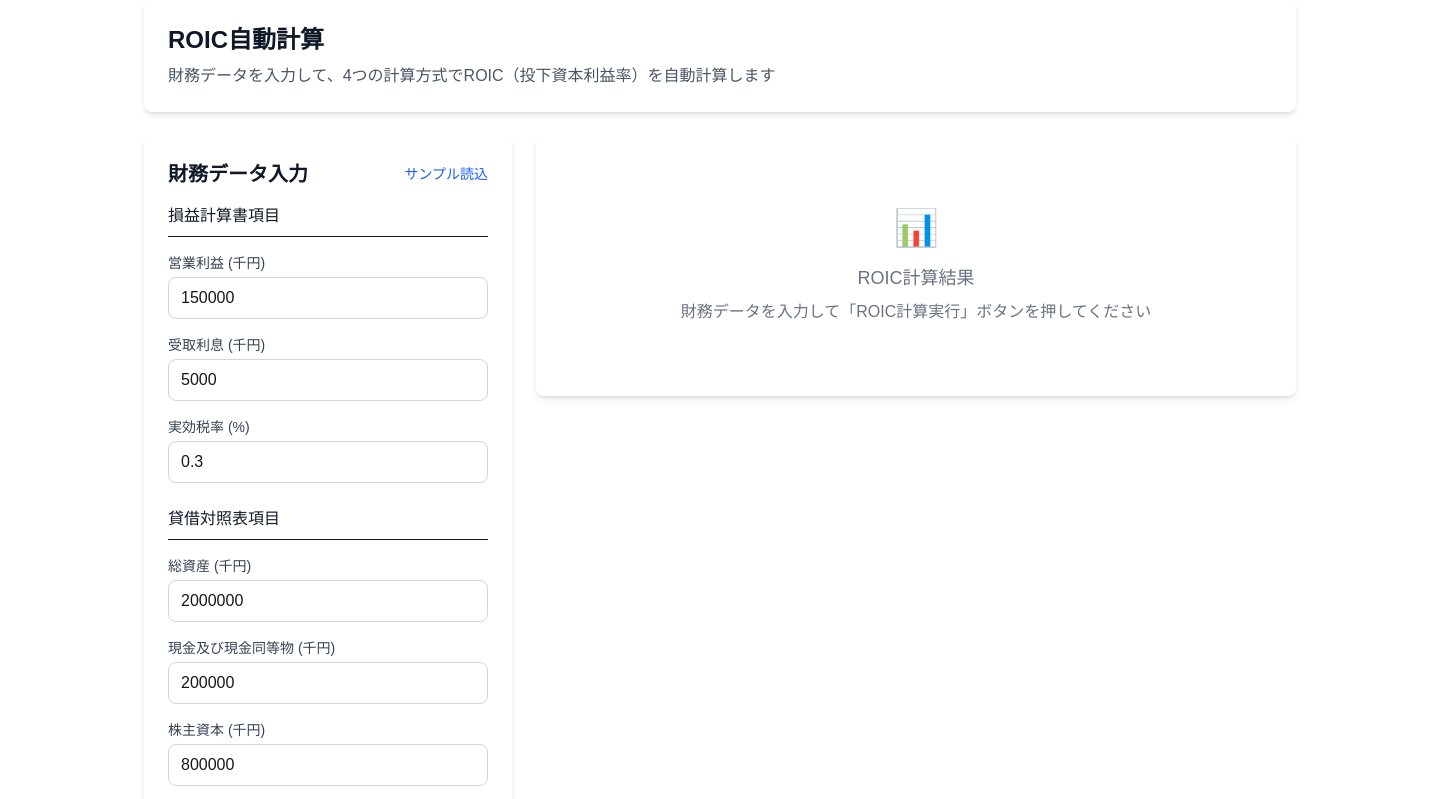
Test: ROICCalculator コンポーネント › ROIC計算機能 › 計算実行ボタンで結果が表示される
This screenshot has width=1440, height=799.
Note: サンプルデータを読み込み
What coordinates should you click on to do the following:
click the button "サンプル読込"
I would click on:
 (446, 174)
Its box is [404, 164, 488, 184].
(page scrolled)
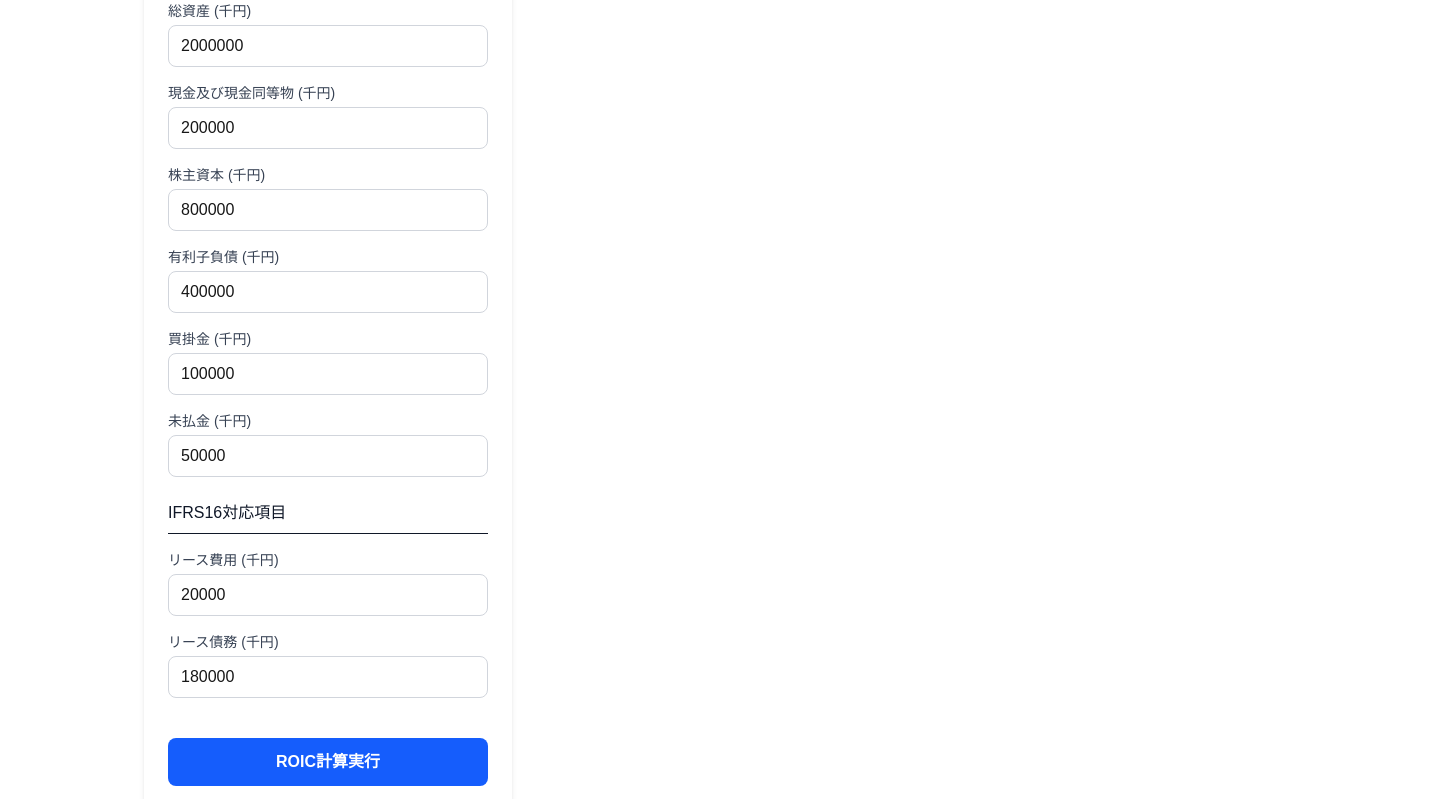
What coordinates should you click on to do the following:
click the button "ROIC計算実行"
I would click on:
 (328, 762)
Its box is [168, 738, 488, 786].
(page scrolled)
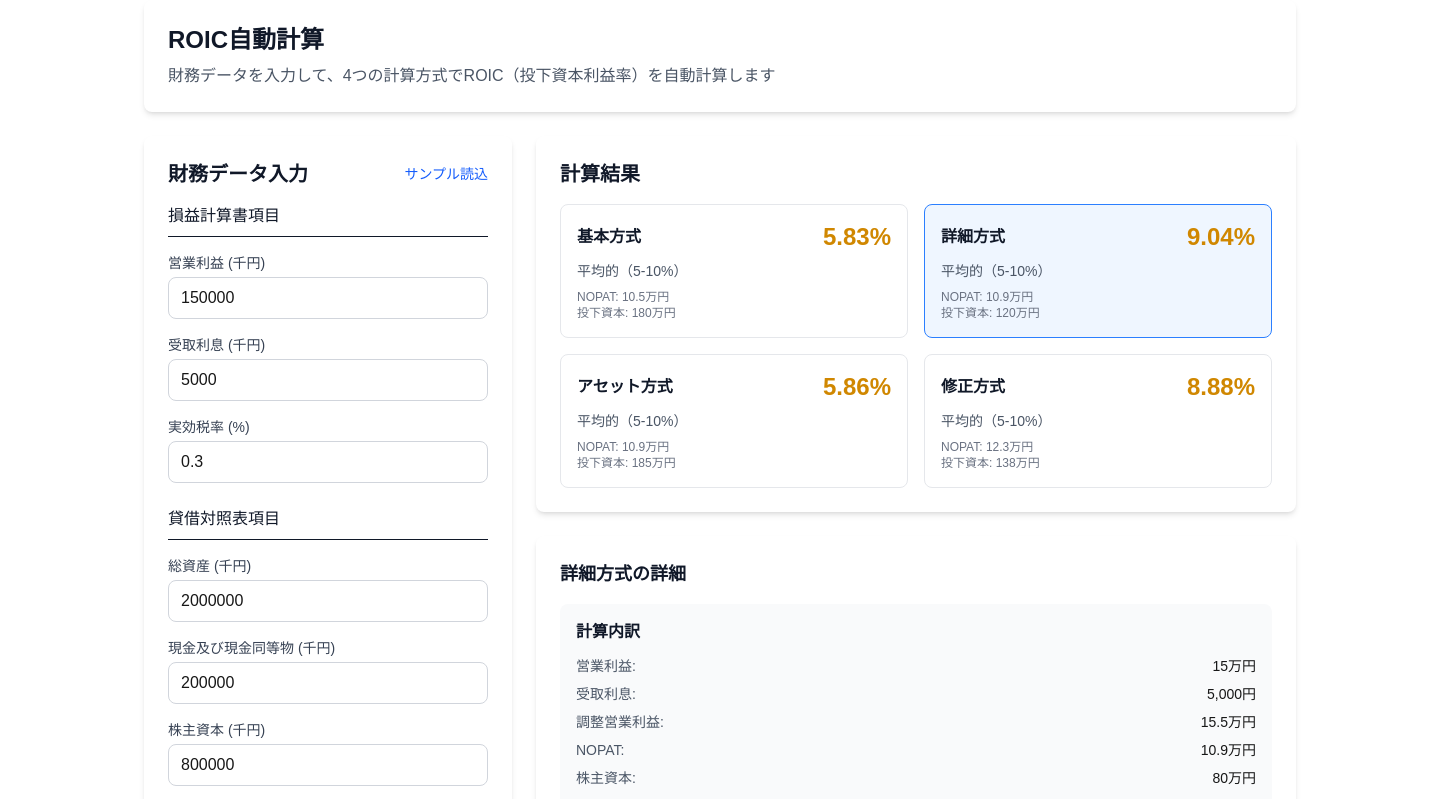
Expected: the heading "基本方式" is shown, [577, 225, 641, 249]
Expected: the heading "詳細方式" is shown, [941, 225, 1005, 249]
Expected: the heading "アセット方式" is shown, [577, 375, 673, 399]
